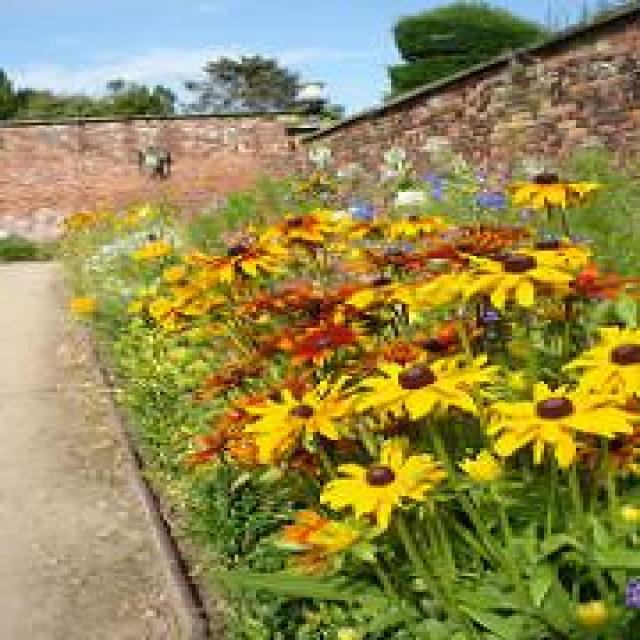sunflower: (480, 382, 640, 469), (358, 352, 501, 421), (324, 436, 444, 516), (246, 381, 349, 462), (455, 240, 574, 309), (560, 326, 640, 386), (261, 208, 354, 248), (193, 242, 285, 282), (513, 170, 599, 210), (346, 274, 419, 311), (390, 213, 442, 237)
